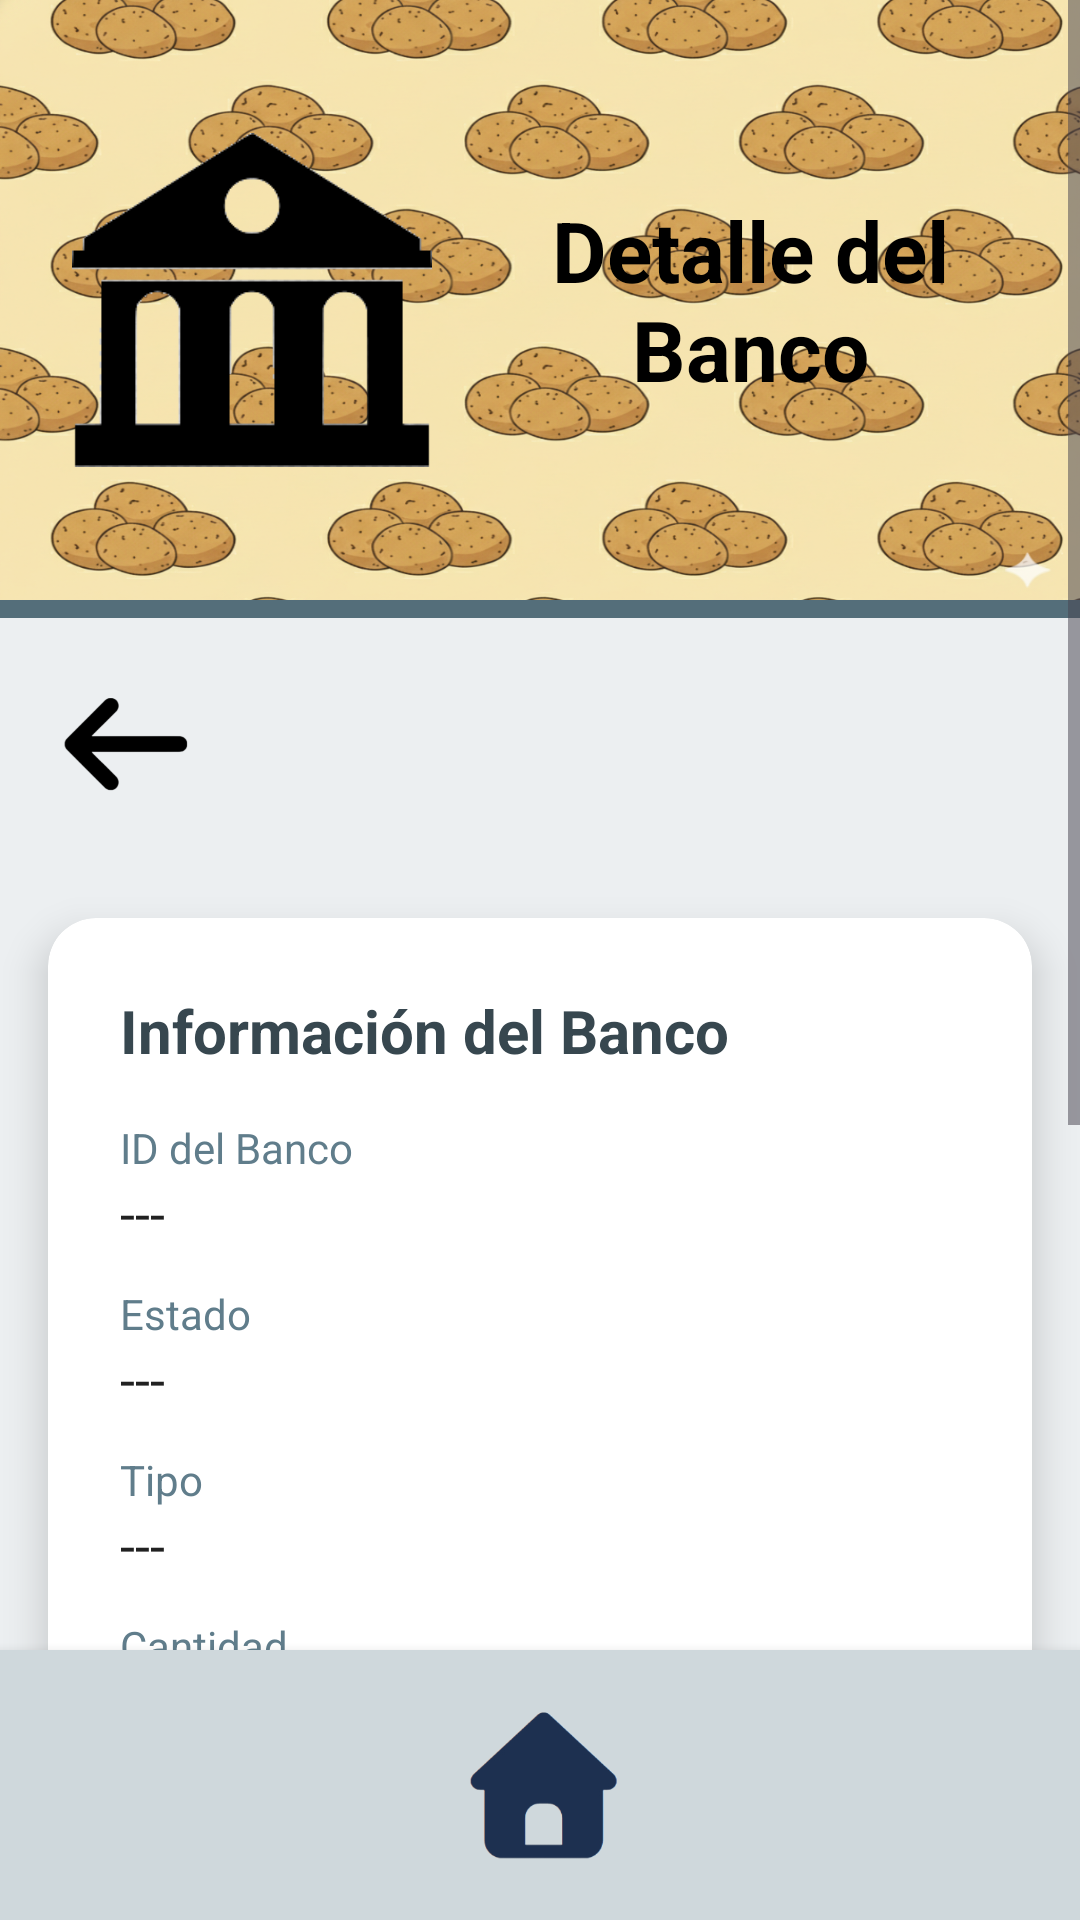

Icons on this 1080 x 1920 Android screen, each with the point to tap as (x=x, y=y):
casita: (x=543, y=1785)
flecha: (x=126, y=744)
